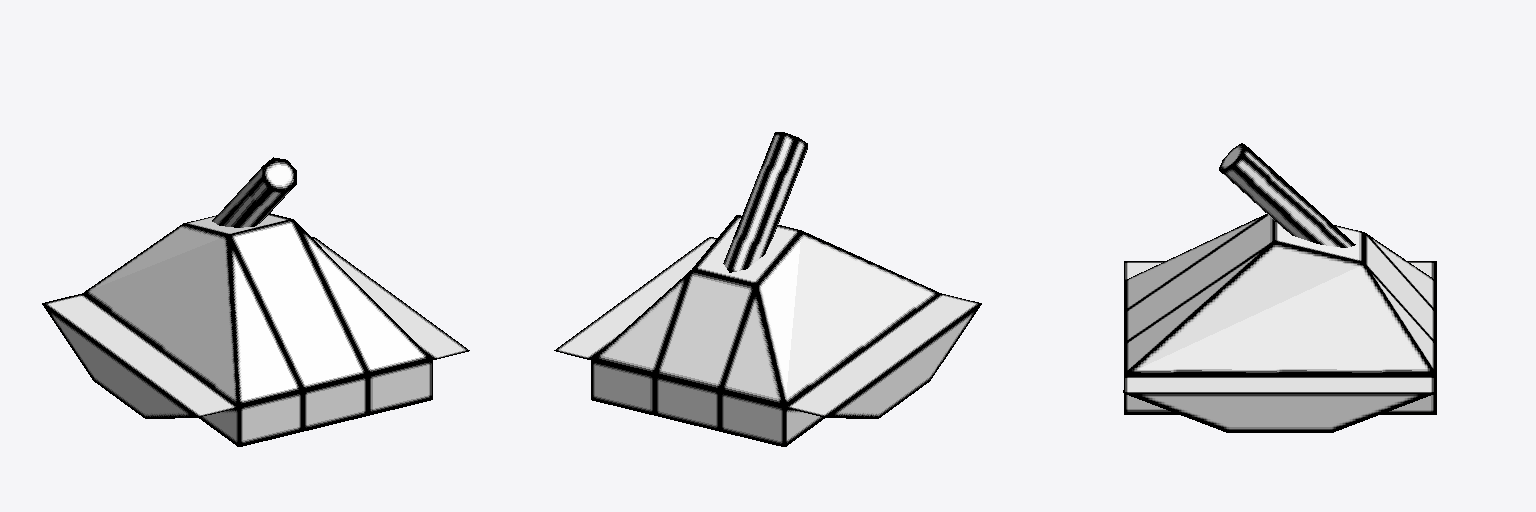
3 views of the same model, side by side, from view 1: azimuth 30°, elevation 25°; view 2: azimuth 150°, elevation 25°; view 3: azimuth 270°, elevation 25° (orthographic).
Parts seen in each view (by area): view 1: Box19; view 2: Box19; view 3: Box19.
Part boxes in pixels (x1,y1,x2,y2): Box19: (42,157,469,446); Box19: (554,132,981,446); Box19: (1123,143,1436,432).
Bounding box in the file's own units: 2.01 × 1.57 × 2.
Materials: 1 (1 with a texture image).